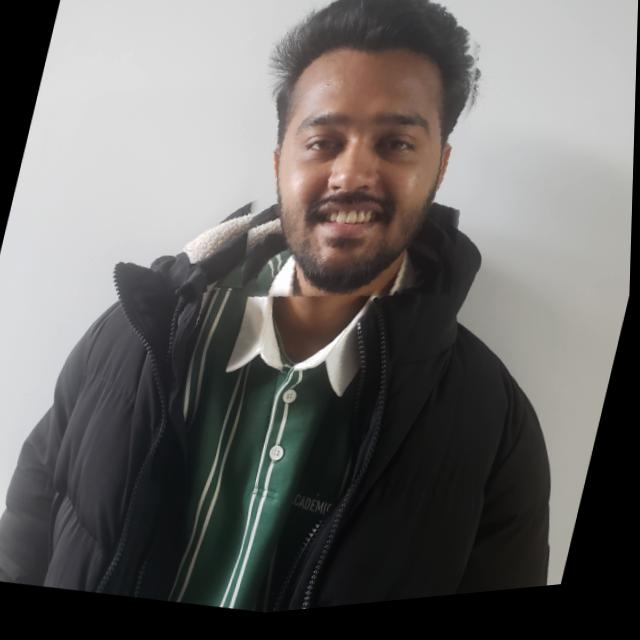happy: (214, 0, 513, 340)
